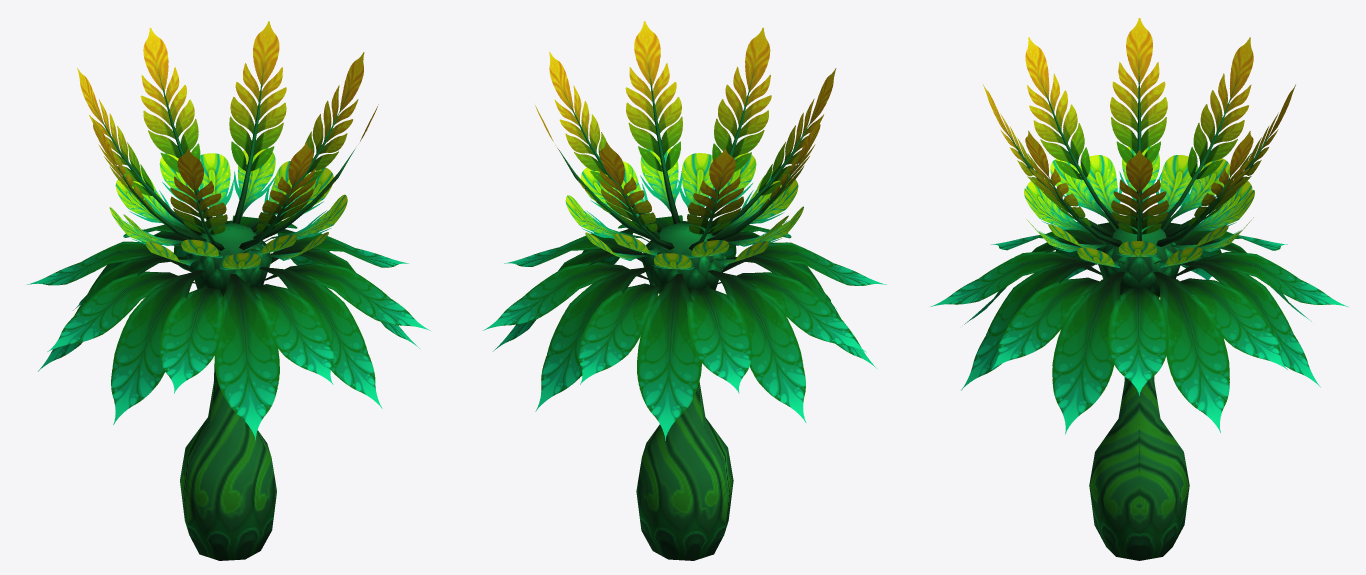
File: Green_Tree_01b.FBX
3 renders of one model, left to right at view 1: azimuth 30°, elevation 25°; view 2: azimuth 150°, elevation 25°; view 3: azimuth 270°, elevation 25°, orthographic.
Visible parts, largest first — view 1: Green_Tree_01b; view 2: Green_Tree_01b; view 3: Green_Tree_01b.
Boxes of the visible parts, x1,y1,x2,y2 form: Green_Tree_01b: [27, 21, 430, 560]; Green_Tree_01b: [482, 21, 886, 560]; Green_Tree_01b: [930, 18, 1348, 560].
Size of the model in its own units: 194 by 235 by 194.
